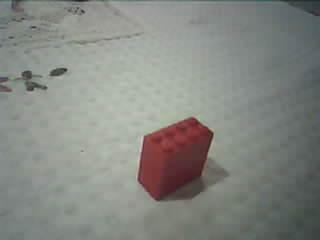lego: (136, 116, 215, 201)
